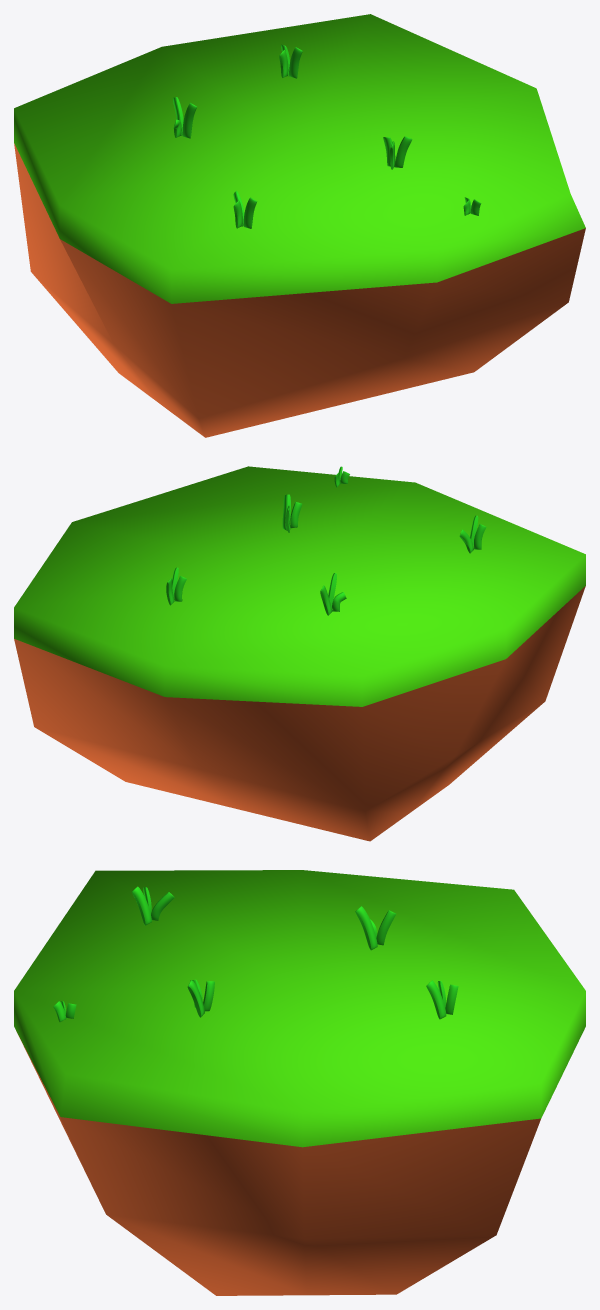
The model's file is float-land.glb.
3 renders of one model, top to bottom at view 1: azimuth 30°, elevation 25°; view 2: azimuth 150°, elevation 25°; view 3: azimuth 270°, elevation 25°, orthographic. The views are drawn at different scales.
Parts seen in each view (by area): view 1: Cube.001, Cube, Plane.001, Plane.002, Plane.003, Plane; view 2: Cube.001, Cube, Plane.001, Plane.003, Plane.002; view 3: Cube.001, Cube, Plane.001, Plane.003, Plane, Plane.002.
Boxes of the visible parts, x1,y1,x2,y2 form: Cube.001: (14,14,585,303); Cube: (14,143,585,437); Plane.001: (173,97,196,138); Plane.002: (383,136,412,169); Plane.003: (233,190,257,228); Plane: (279,44,302,78); Cube.001: (14,466,585,706); Cube: (14,586,585,841); Plane.001: (320,573,346,615); Plane.003: (459,515,486,553); Plane.002: (282,494,302,532); Cube.001: (14,870,585,1147); Cube: (18,1035,540,1295); Plane.001: (355,906,395,950); Plane.003: (132,886,174,925); Plane: (426,980,458,1019); Plane.002: (187,979,214,1017).
Bounding box in the file's own units: 14.1 × 7.65 × 14.1.
